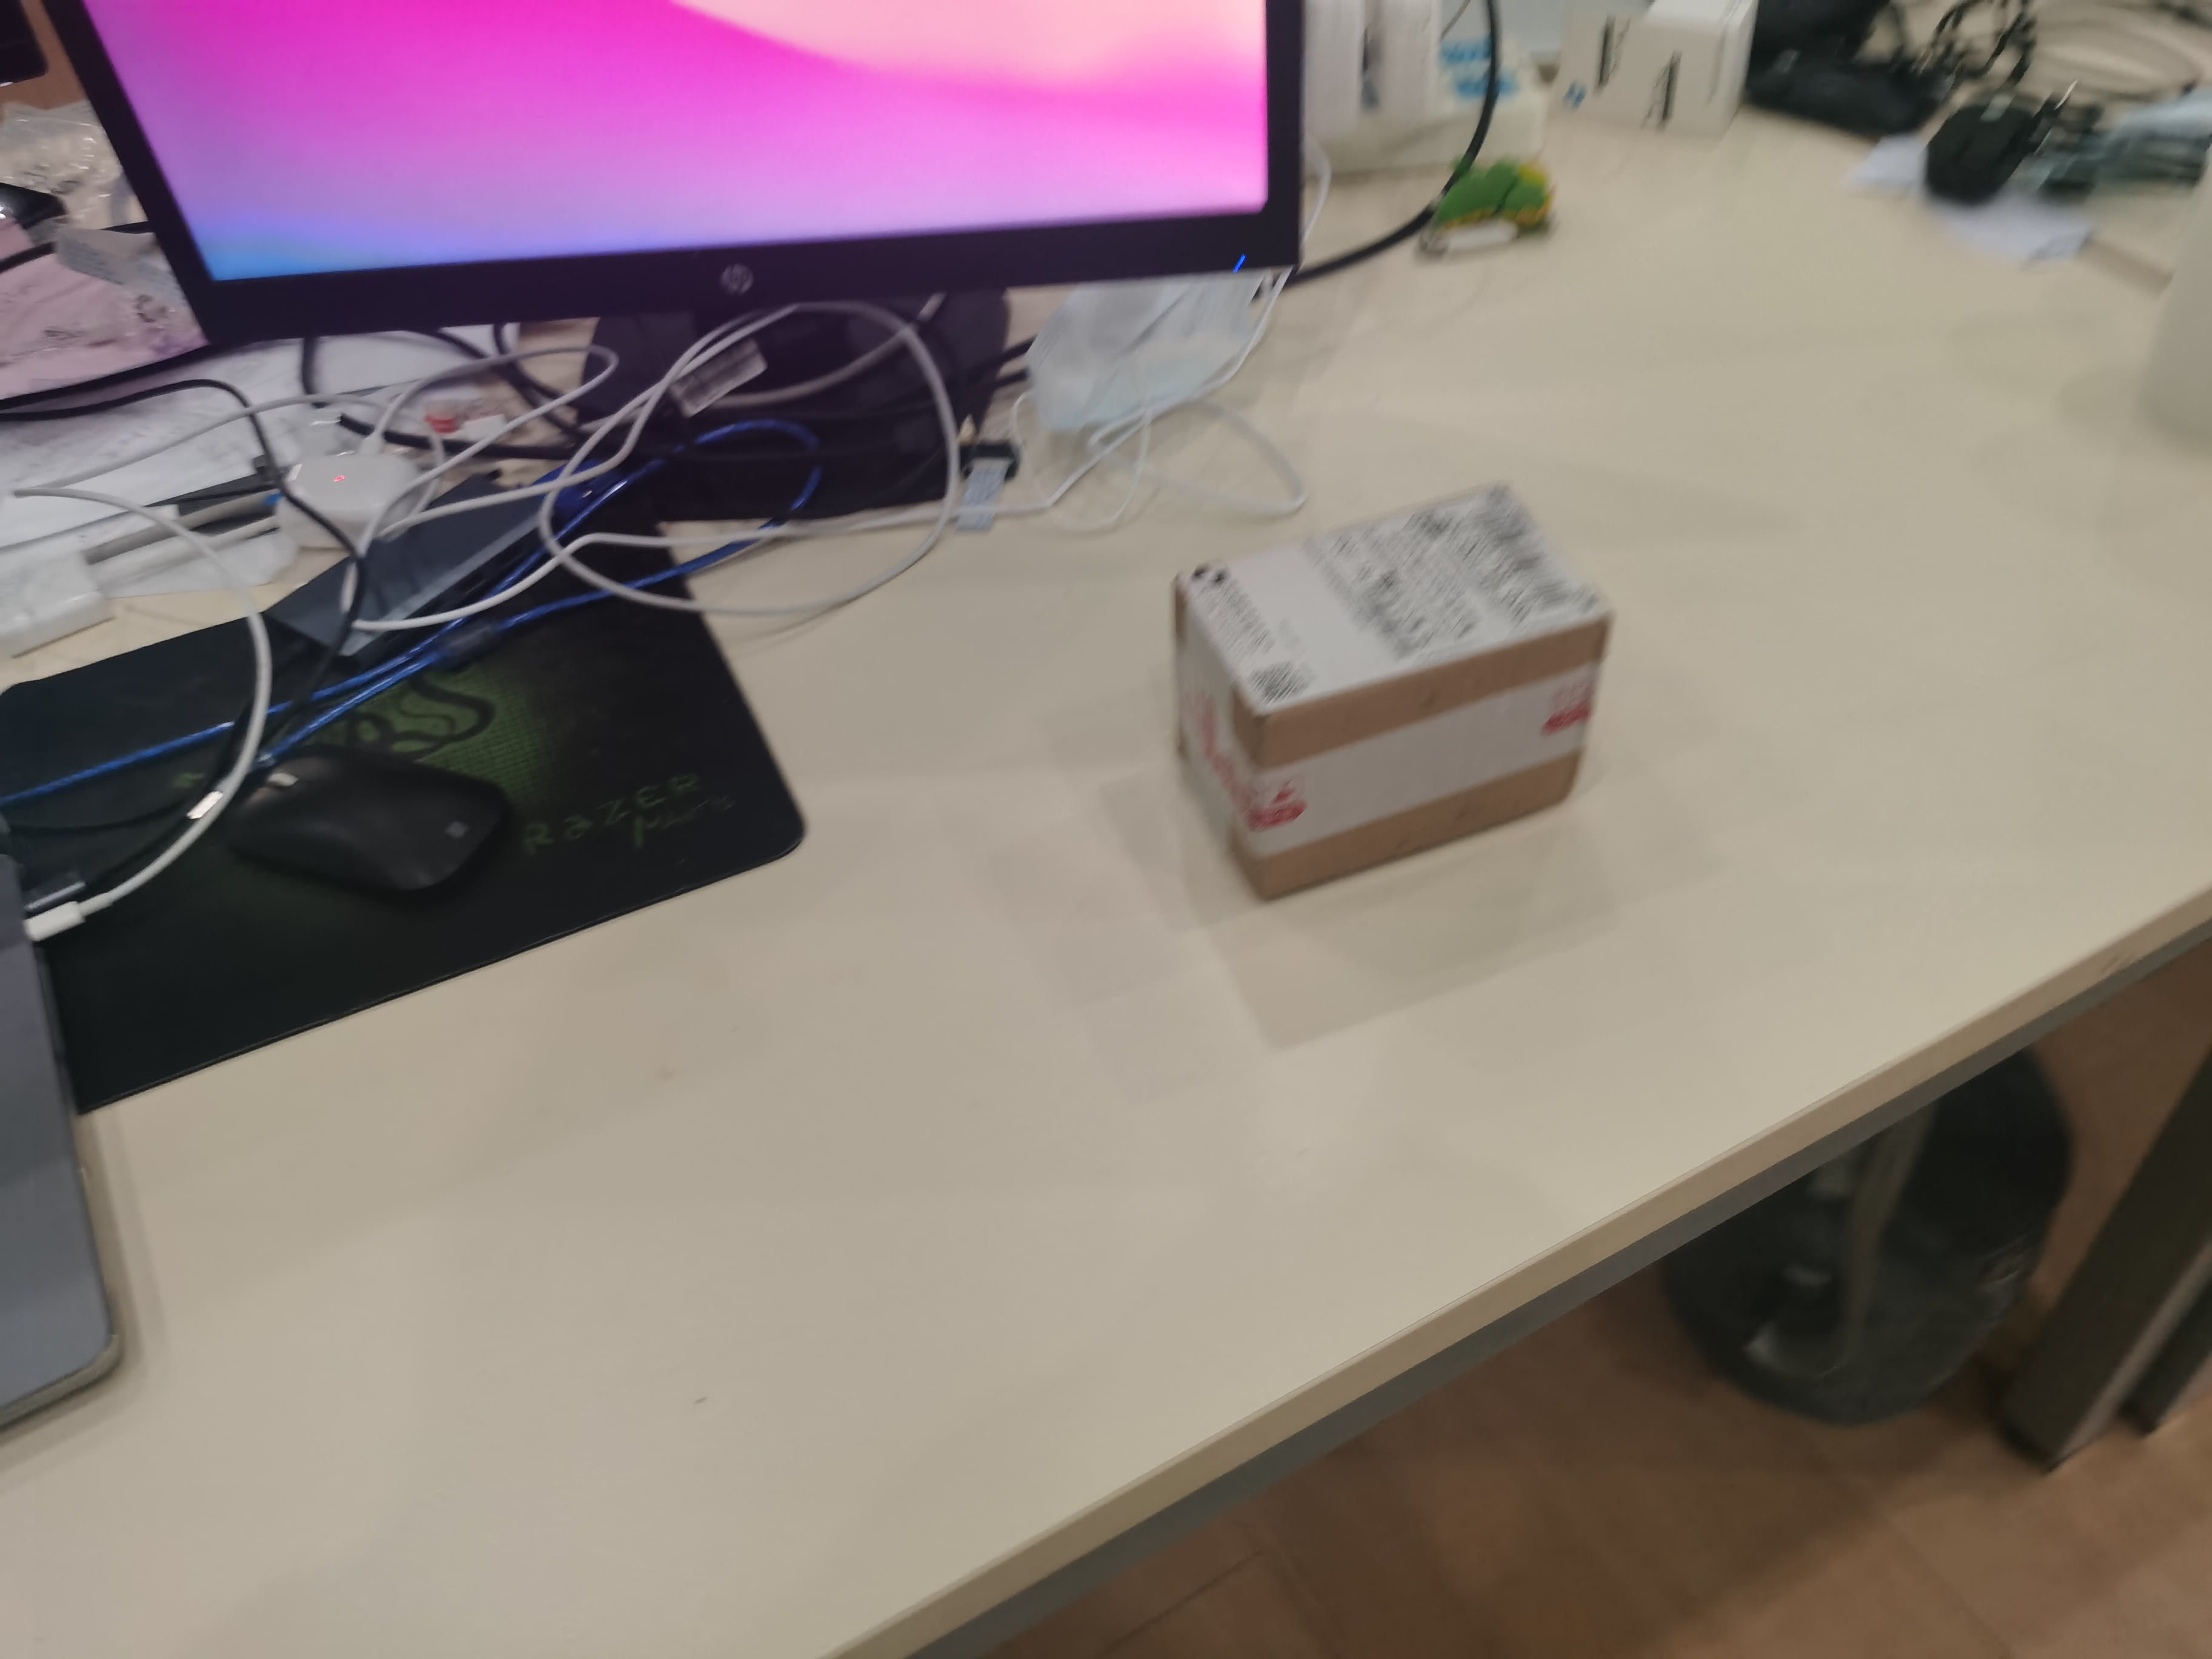box: (1165, 476, 1616, 901)
